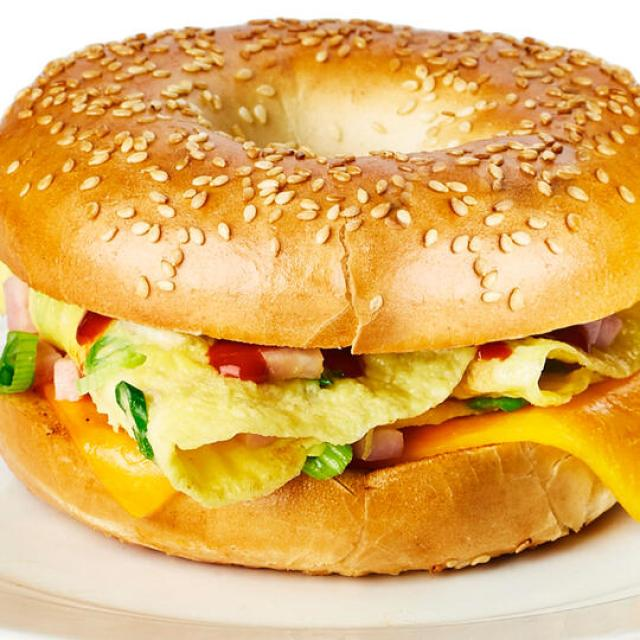Bagel: (0, 21, 640, 354)
